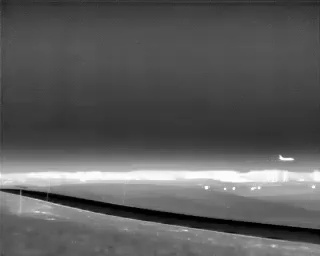AIRPLANE: (276, 153, 297, 166)
